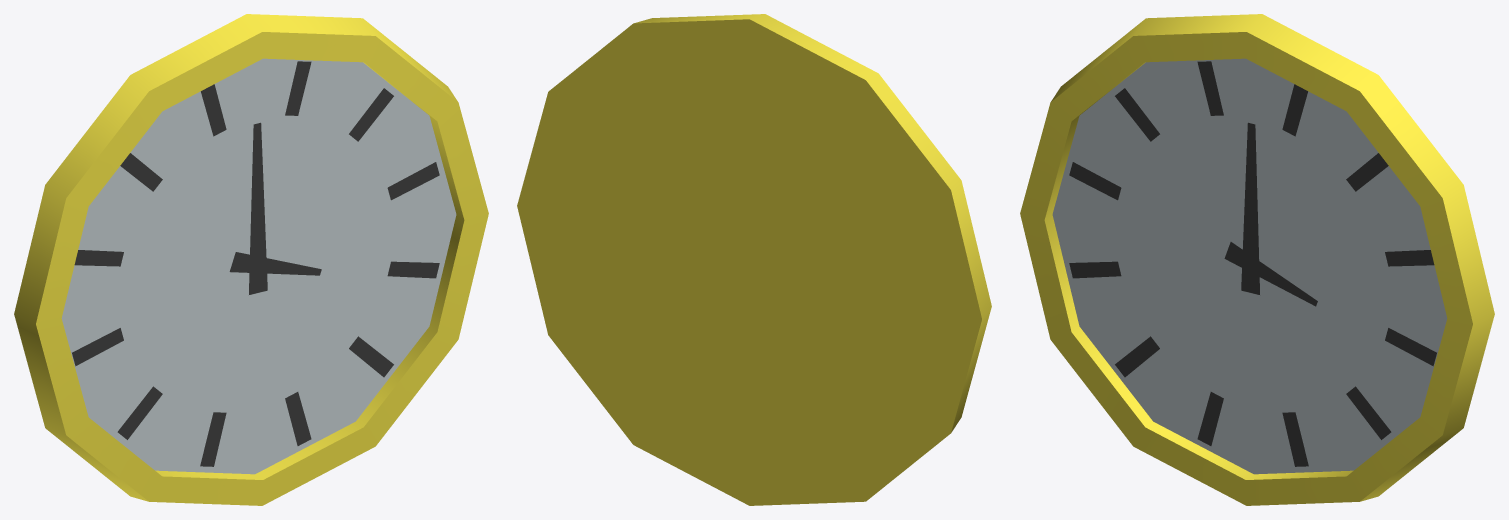
The model's file is prop_083.glb.
3 views of the same model, side by side, from view 1: azimuth 30°, elevation 25°; view 2: azimuth 150°, elevation 25°; view 3: azimuth 330°, elevation 25° (orthographic).
Parts seen in each view (by area): view 1: prop_083; view 2: prop_083; view 3: prop_083.
Part boxes in pixels (x1=…): prop_083: x1=14, y1=14, x2=488, y2=505; prop_083: x1=517, y1=14, x2=991, y2=505; prop_083: x1=1020, y1=14, x2=1494, y2=505.
Size of the model in its own units: 0.4493 by 0.4493 by 0.0275.
Materials: 1 (1 with a texture image).
